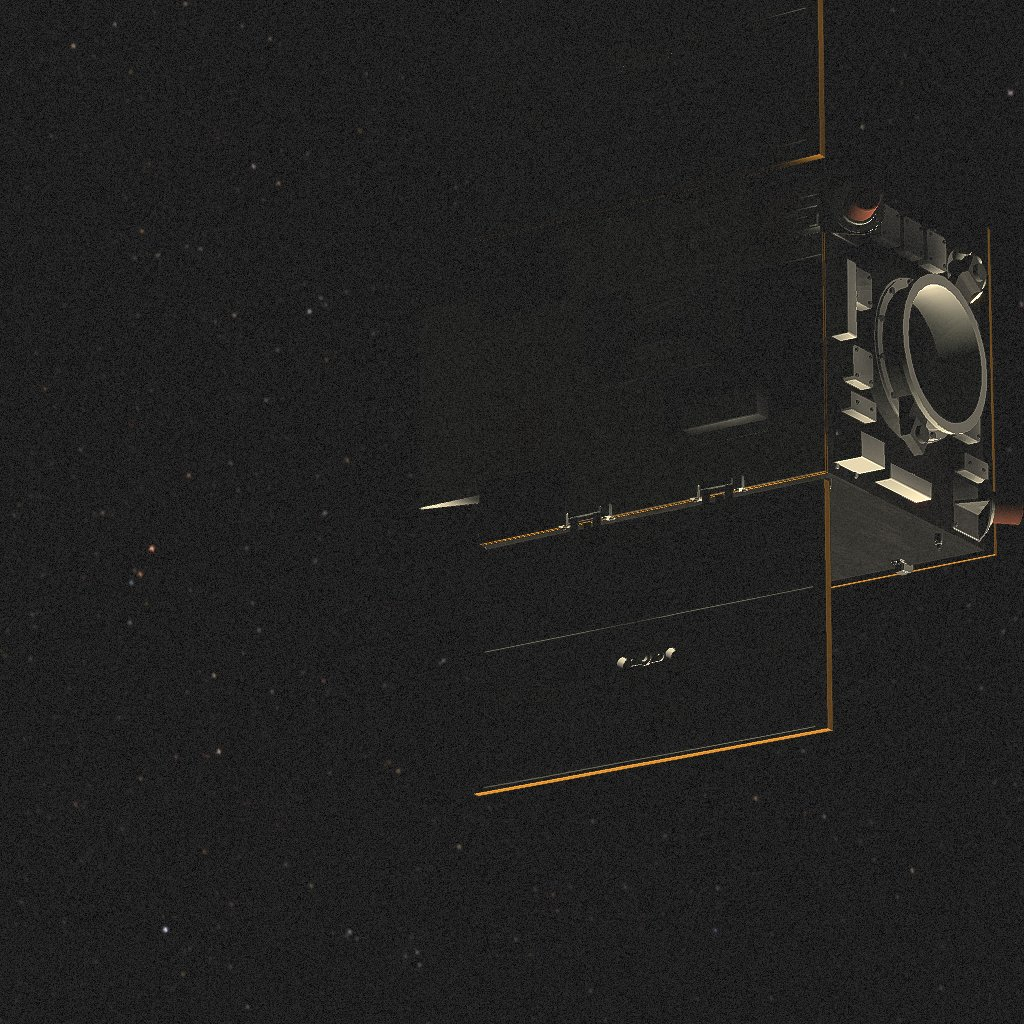proba_2: (360, 11, 986, 780)
